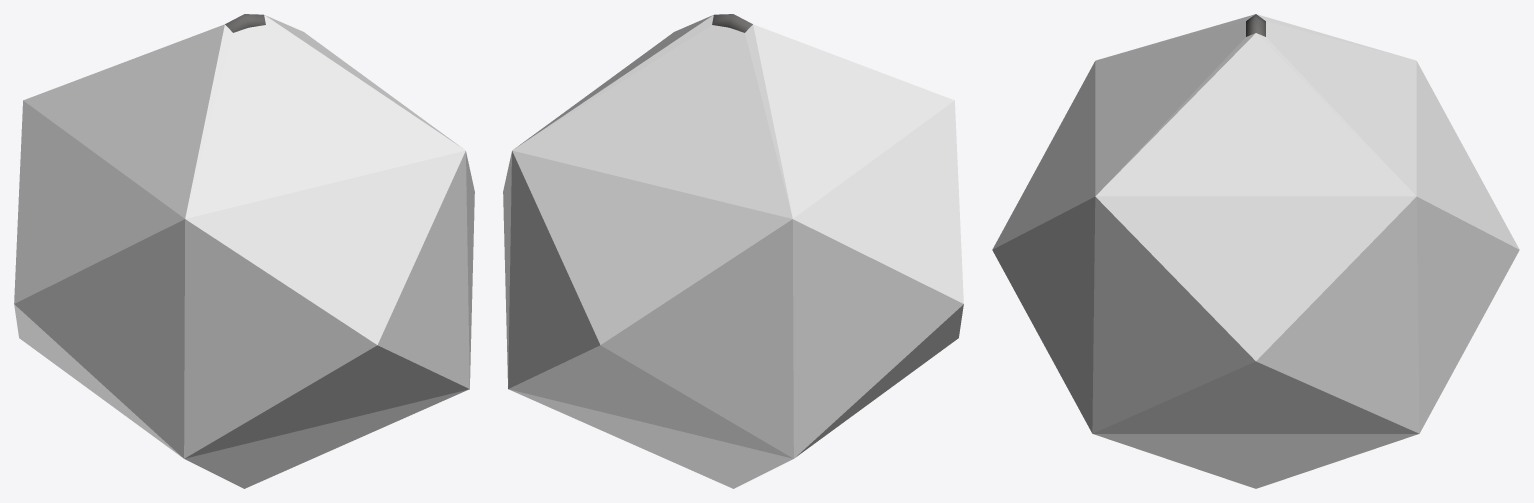
The model's file is chain_weight.webp.glb.
3 renders of one model, left to right at view 1: azimuth 30°, elevation 25°; view 2: azimuth 150°, elevation 25°; view 3: azimuth 270°, elevation 25°, orthographic.
Visible parts, largest first — view 1: COL, LOD0_body; view 2: COL, LOD0_body; view 3: COL.
Part boxes in pixels (x1,y1,x2,y2): COL: [14, 15, 474, 488]; LOD0_body: [225, 14, 265, 32]; COL: [503, 15, 963, 488]; LOD0_body: [712, 14, 752, 32]; COL: [992, 14, 1519, 488].
Size of the model in its own units: 1 by 0.985 by 1.
Materials: 1 (1 with a texture image).
